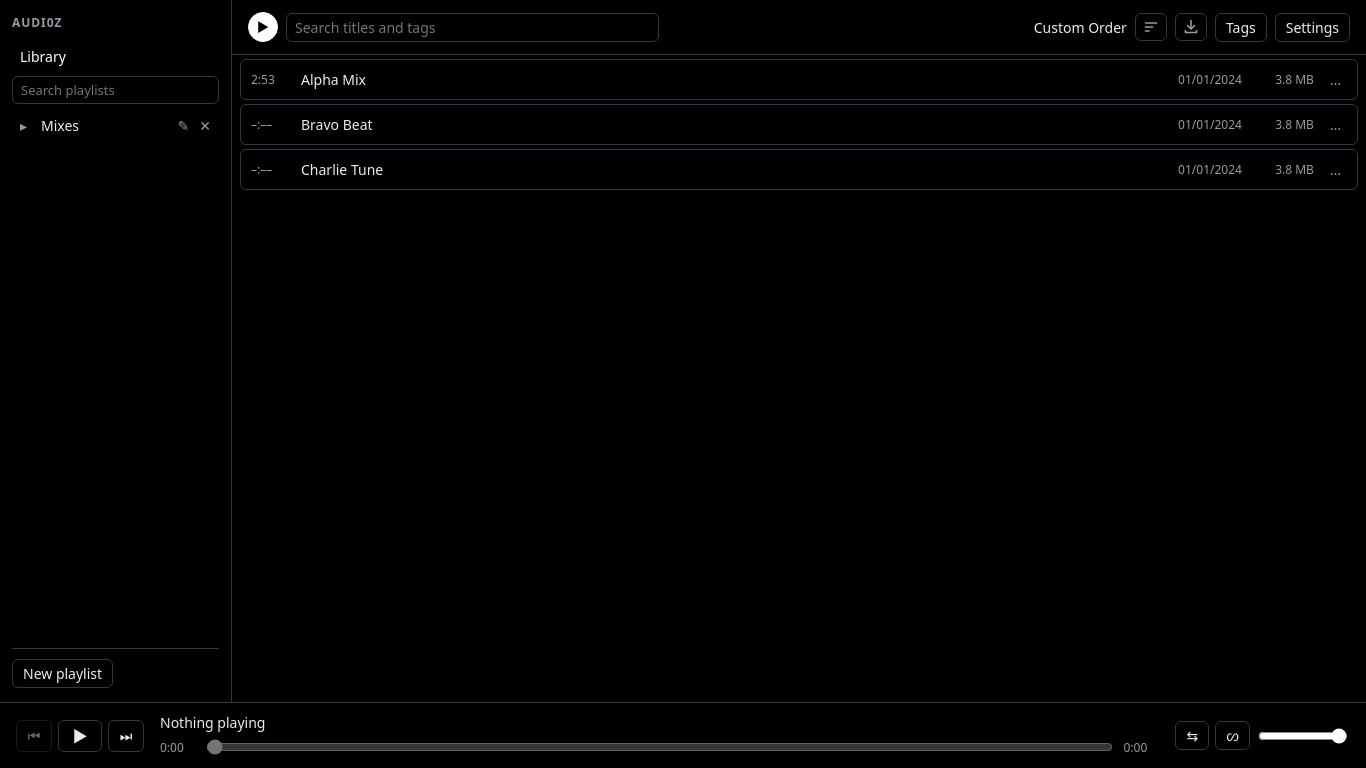
AddToPlaylistDialog › says so when nothing matches
Step 1. Click the button "Mixes" → (102,126), box 33,112 -> 172,139
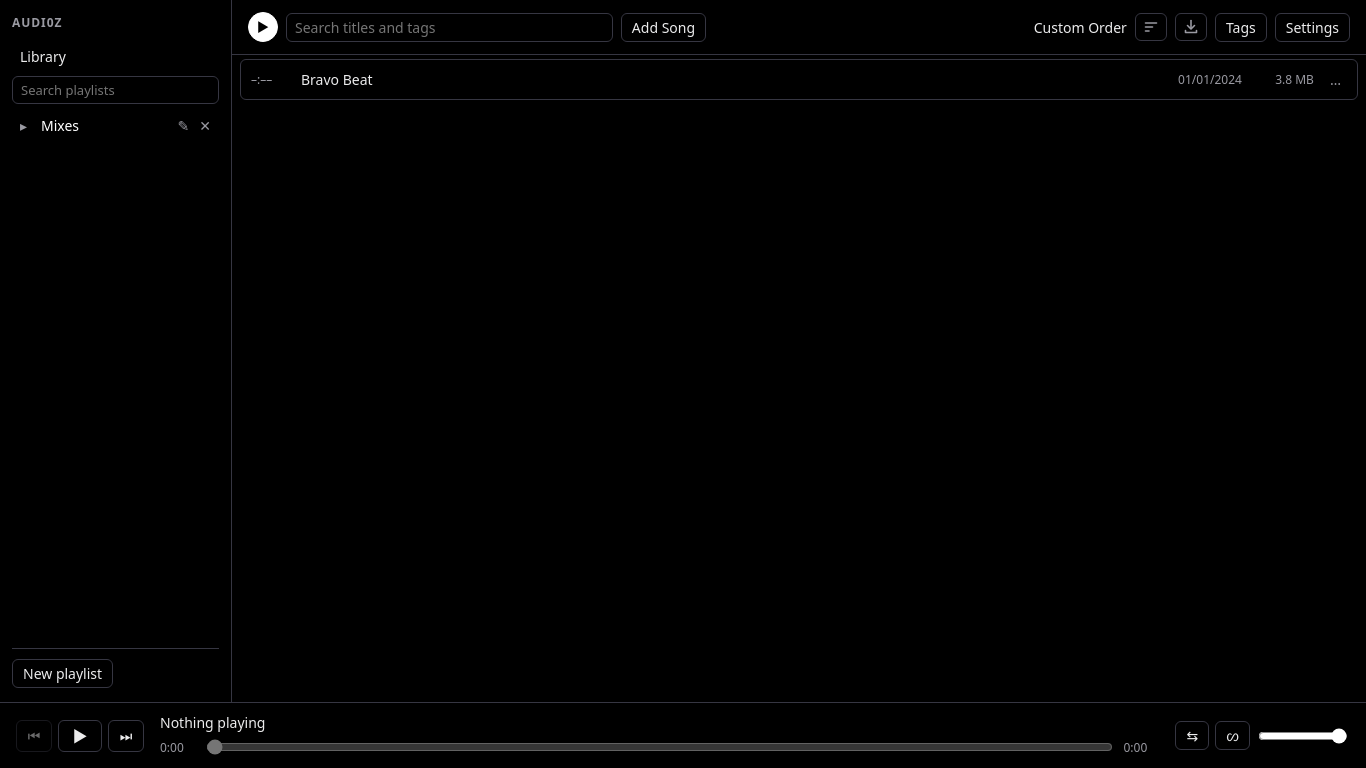
Step 2. Click the button with aria-label "Add songs to Mixes" → (663,27), box 621,12 -> 706,42
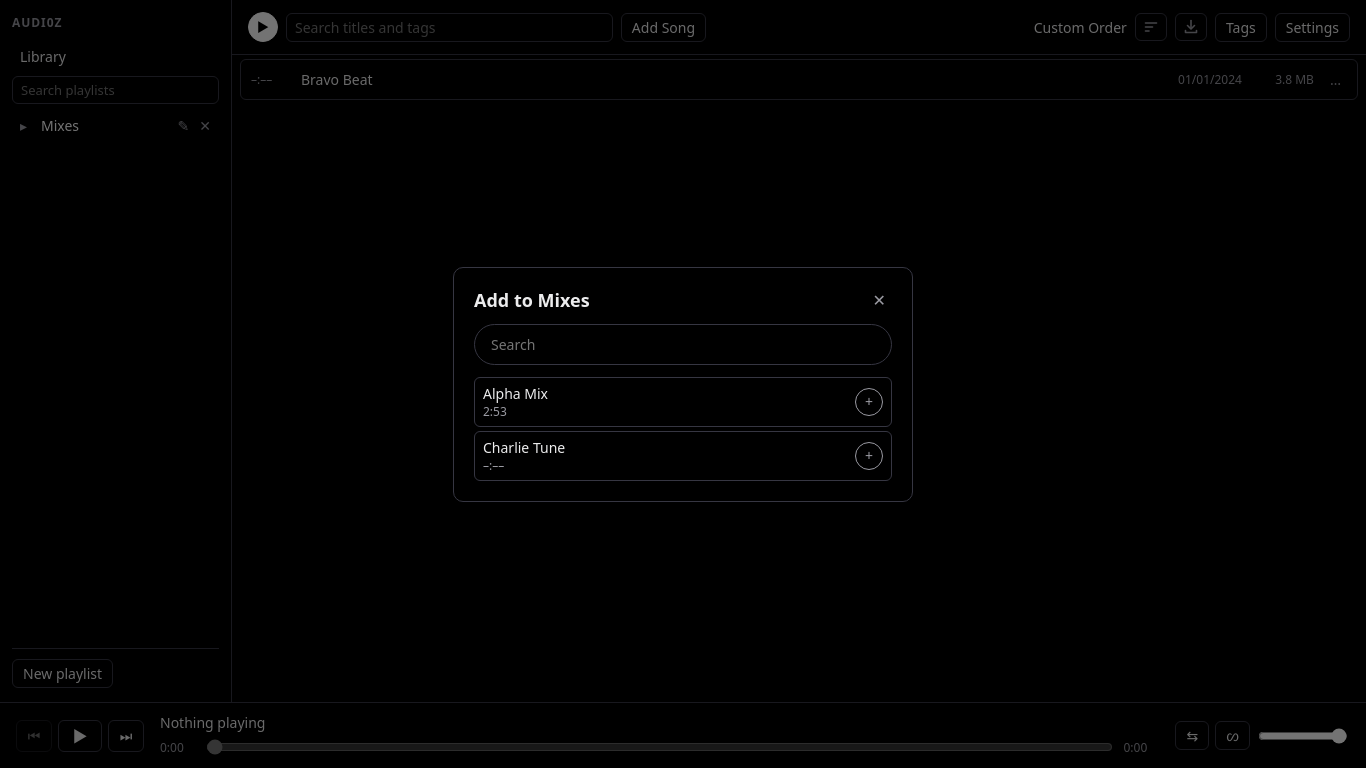
Step 3. Type "zzz" into the search field named "Search songs to add" → (683,344), box 474,324 -> 892,364
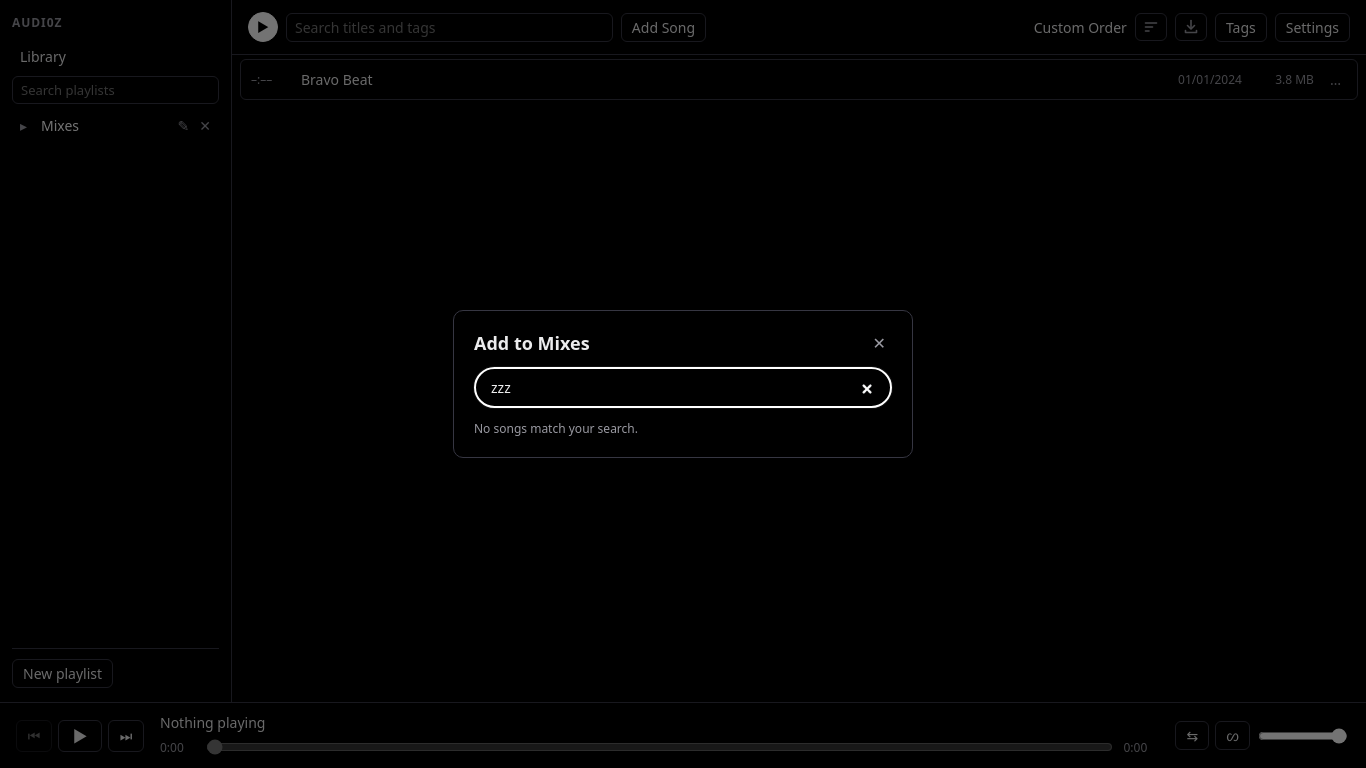
Expected: the text "No songs match your search." is shown, 474,420 -> 638,437
